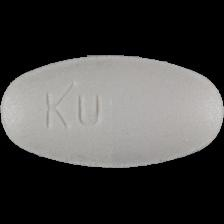43353-917: (0, 0, 224, 224)
